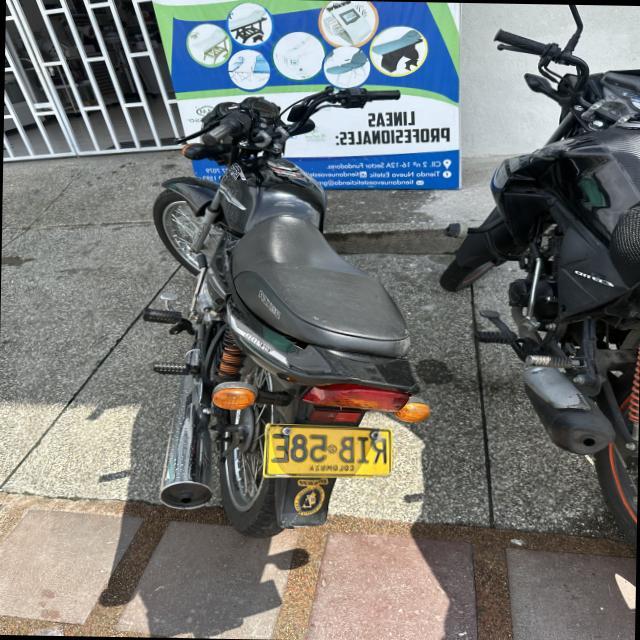number plate: (153, 0, 459, 188), (263, 423, 392, 477)
